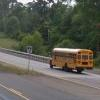Bus: (50, 45, 92, 71)
